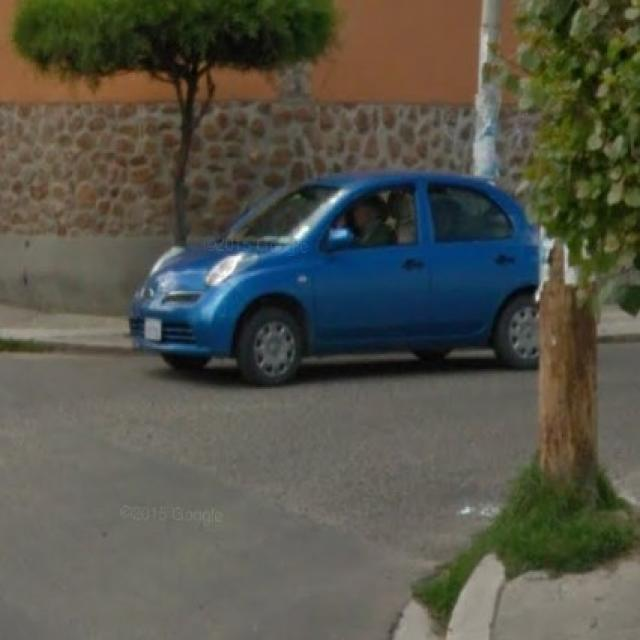Car: (145, 173, 559, 384)
